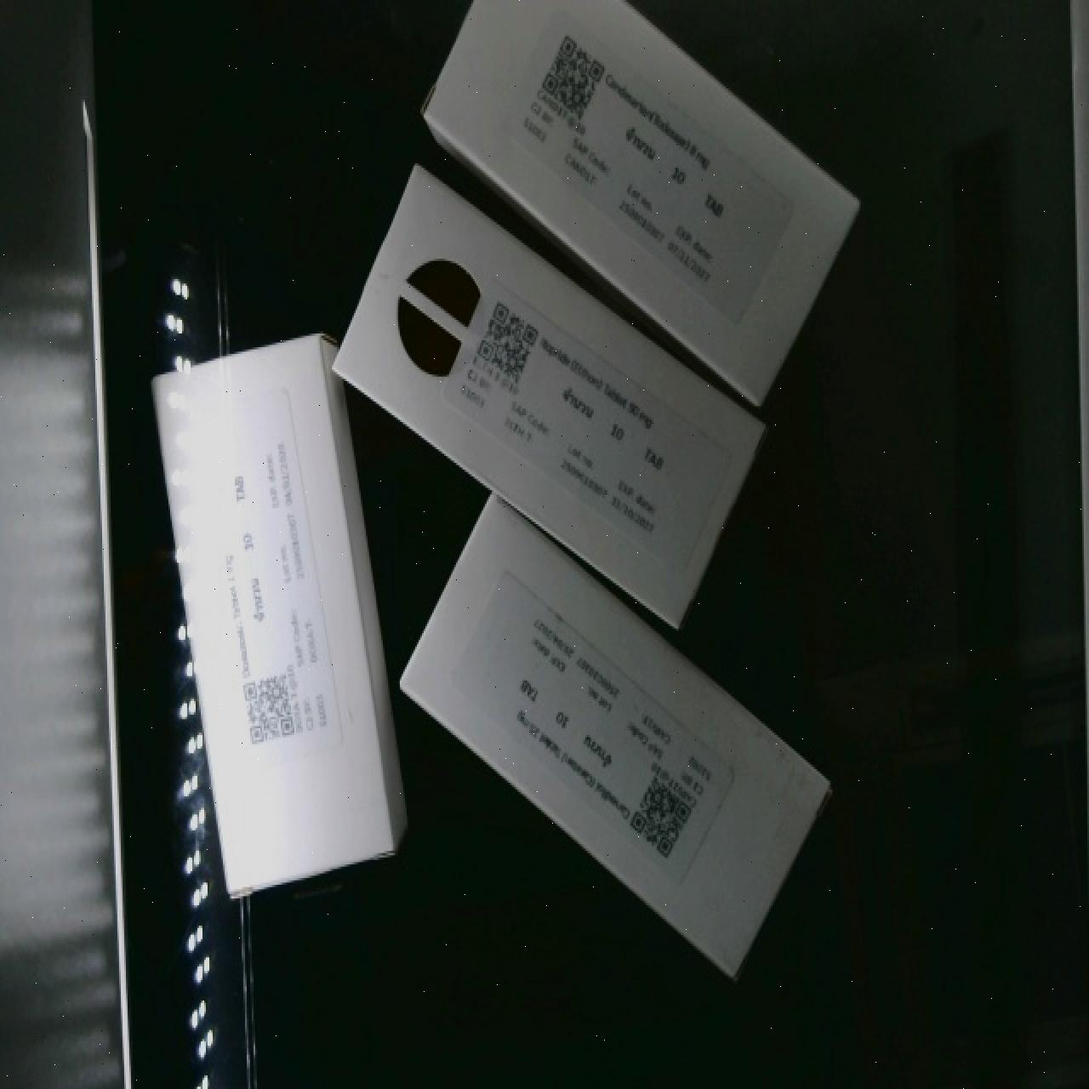qr_code: (597, 748, 730, 878), (449, 276, 567, 406), (518, 16, 626, 137), (228, 651, 315, 762)
